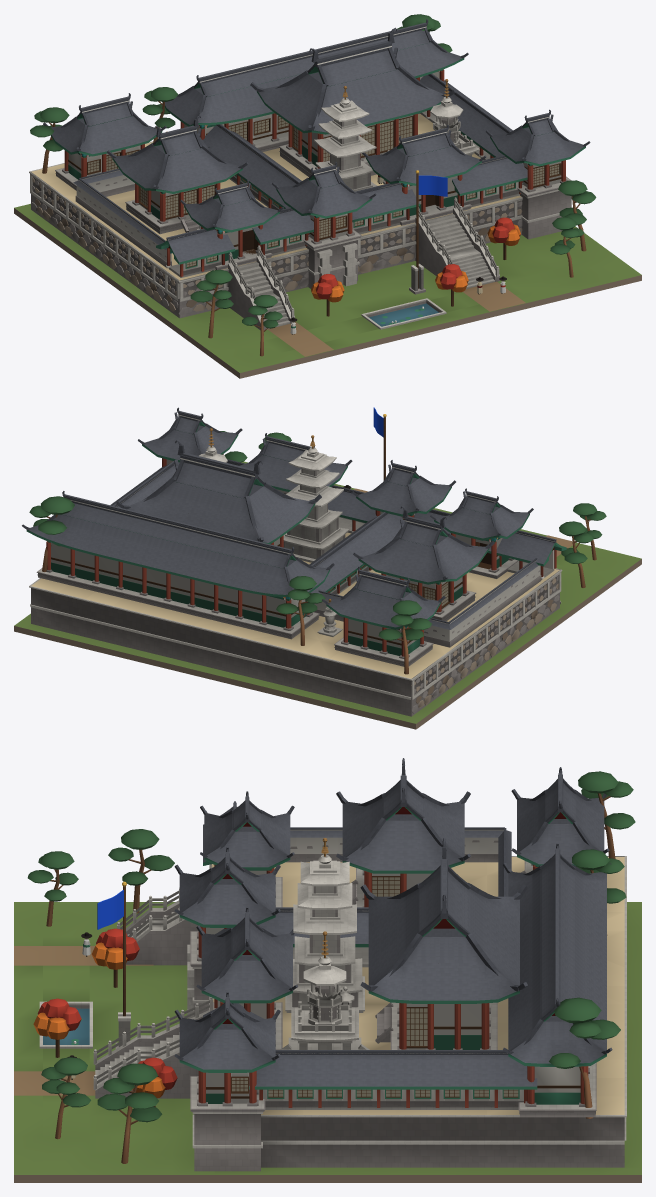
File: lm_bulguksa.glb
3 renders of one model, top to bottom at view 1: azimuth 30°, elevation 25°; view 2: azimuth 150°, elevation 25°; view 3: azimuth 270°, elevation 25°, orthographic. The views are drawn at different scales.
Visible parts, largest first — view 1: lm_bulguksa; view 2: lm_bulguksa; view 3: lm_bulguksa.
Part boxes in pixels (left/top/right/bottom): lm_bulguksa: left=14, top=14, right=641, bottom=378; lm_bulguksa: left=14, top=407, right=641, bottom=729; lm_bulguksa: left=14, top=758, right=641, bottom=1182.
Bounding box in the file's own units: 2.26 × 0.8546 × 2.16.
1 material, 1 textured.
